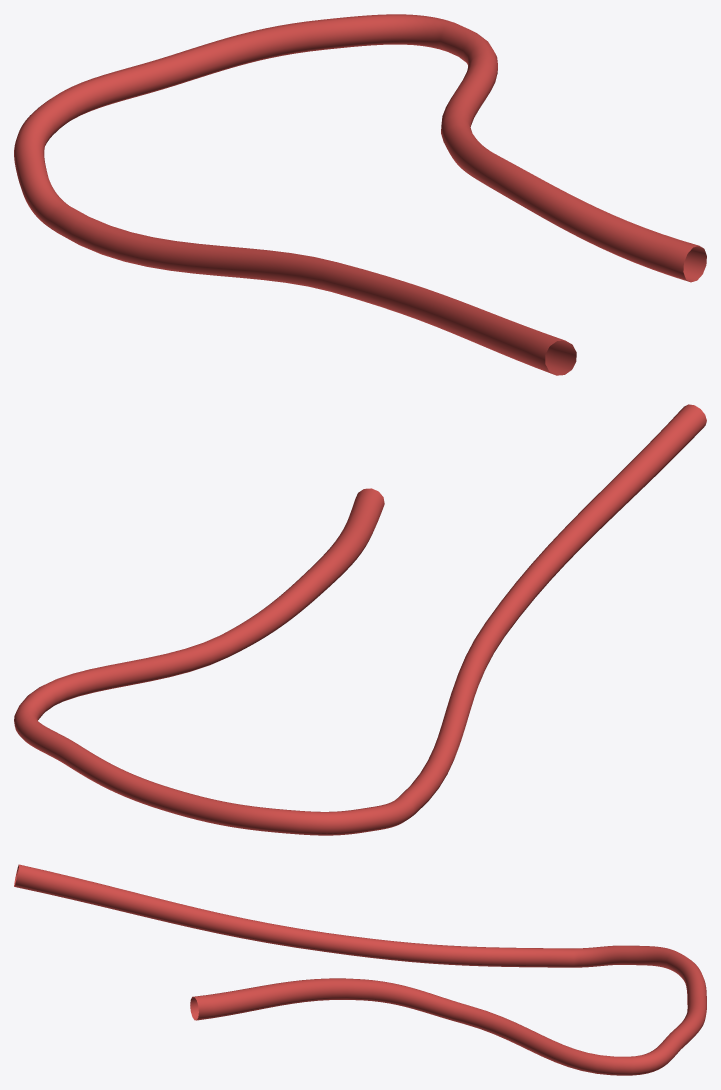
3 renders of one model, top to bottom at view 1: azimuth 30°, elevation 25°; view 2: azimuth 150°, elevation 25°; view 3: azimuth 270°, elevation 25°, orthographic. The views are drawn at different scales.
Parts seen in each view (by area): view 1: 右侧掌浅弓; view 2: 右侧掌浅弓; view 3: 右侧掌浅弓.
Part boxes in pixels (<box>): 右侧掌浅弓: <box>14,14,706,375</box>; 右侧掌浅弓: <box>14,404,706,835</box>; 右侧掌浅弓: <box>14,864,706,1075</box>.
Size of the model in its own units: 0.0519 by 0.0204 by 0.1043.
